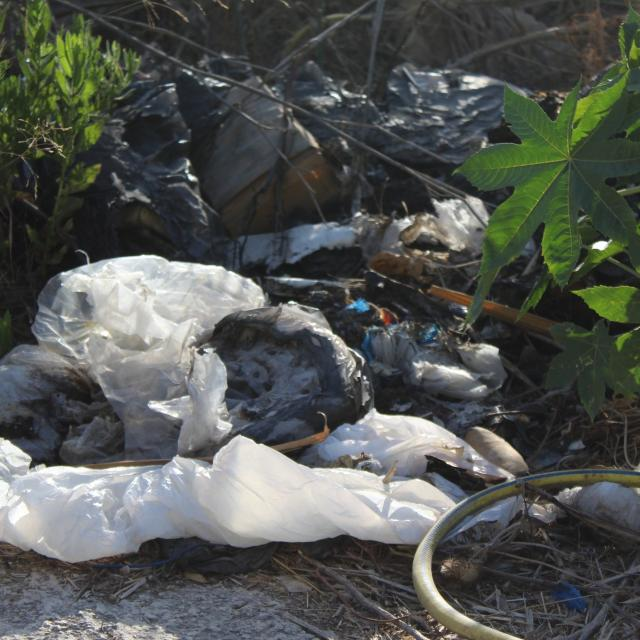Carton: (194, 71, 351, 238)
Other litter: (230, 196, 507, 405)
Other plastic: (409, 462, 640, 640), (545, 482, 640, 543), (550, 583, 590, 614)
Plastic bag - wrapper: (5, 50, 546, 266), (0, 406, 526, 562), (28, 247, 264, 457), (201, 306, 374, 456), (0, 342, 122, 467)
